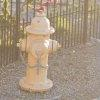a fire hydrant: (20, 10, 55, 94)
